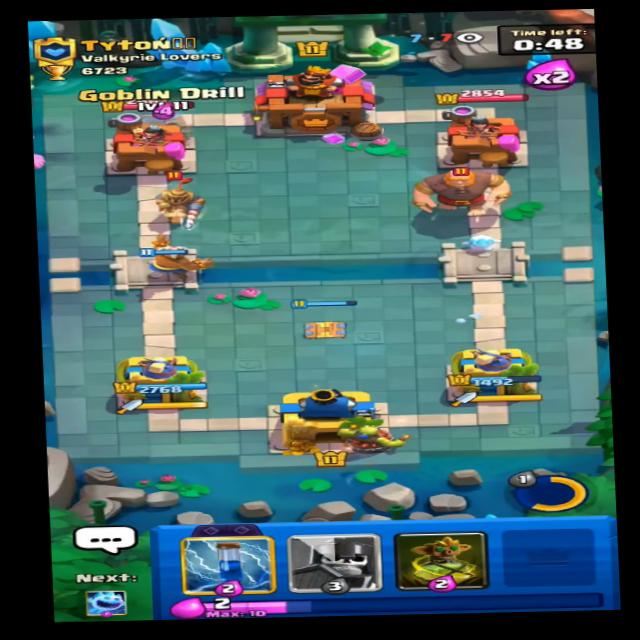giant: (406, 164, 516, 215)
prince: (153, 170, 210, 232)
